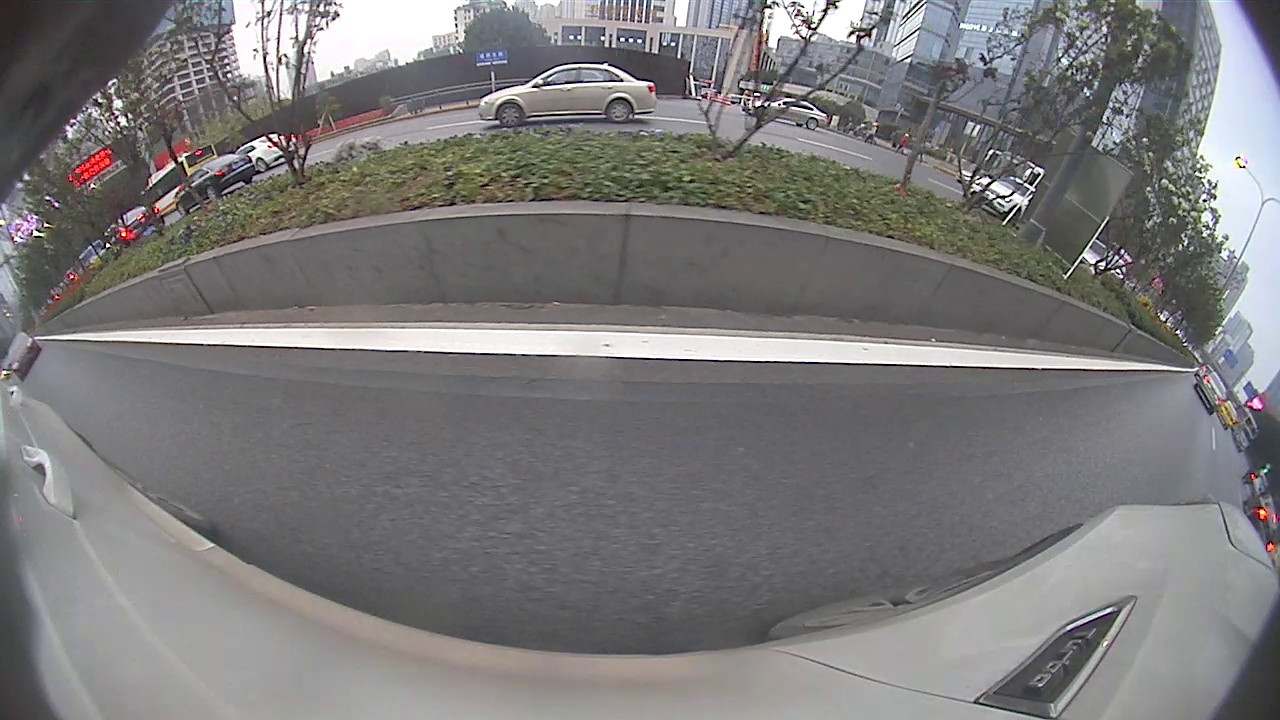car: (476, 62, 659, 132), (4, 329, 43, 385), (1194, 371, 1230, 416)
front: (497, 100, 526, 129)
rear: (605, 98, 634, 125), (205, 186, 222, 202), (805, 117, 820, 132), (255, 159, 270, 174)
